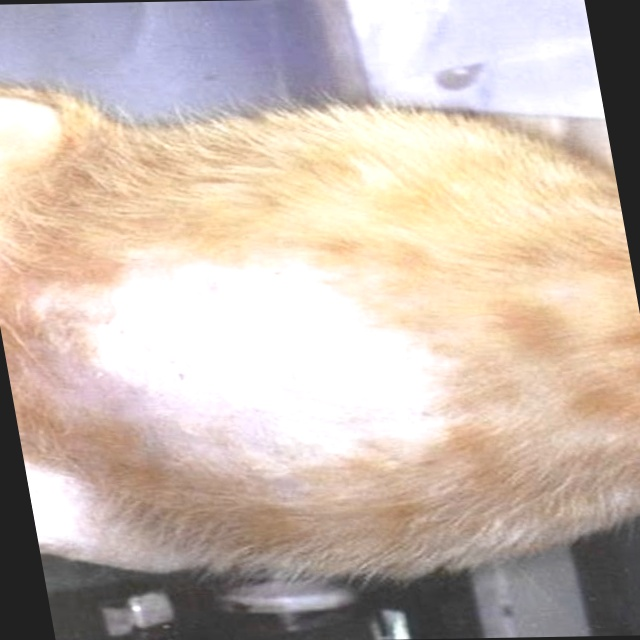hairloss: (74, 263, 453, 438)
